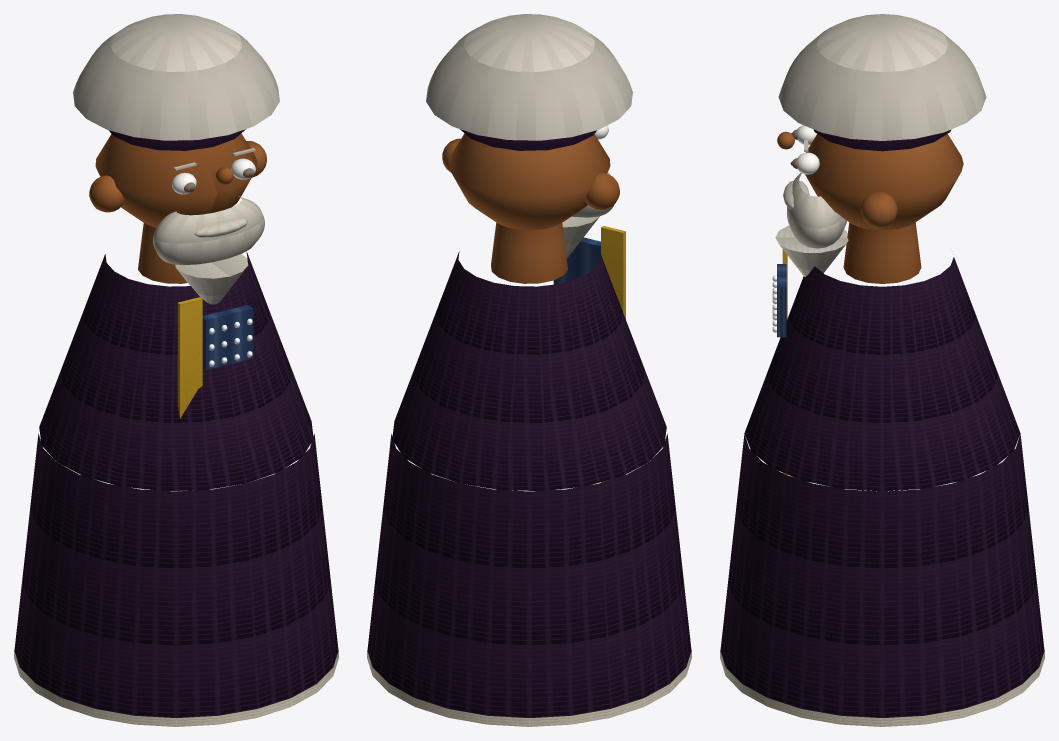
File: samuel_scribe.glb
The picture shows the model from 3 angles, left to right: view 1: azimuth 30°, elevation 25°; view 2: azimuth 150°, elevation 25°; view 3: azimuth 270°, elevation 25°; orthographic projection.
Parts seen in each view (by area): view 1: Character_samuel_the_scribe, head; view 2: Character_samuel_the_scribe, head; view 3: Character_samuel_the_scribe, head.
Boxes of the visible parts, left/top/right/bottom form: Character_samuel_the_scribe: left=14, top=14, right=338, bottom=726; head: left=95, top=133, right=257, bottom=227; Character_samuel_the_scribe: left=367, top=14, right=691, bottom=726; head: left=448, top=133, right=610, bottom=230; Character_samuel_the_scribe: left=720, top=14, right=1044, bottom=726; head: left=805, top=134, right=963, bottom=230.
Size of the model in its own units: 0.8352 by 1.8 by 0.8352.
Materials: 12 (7 with a texture image).
